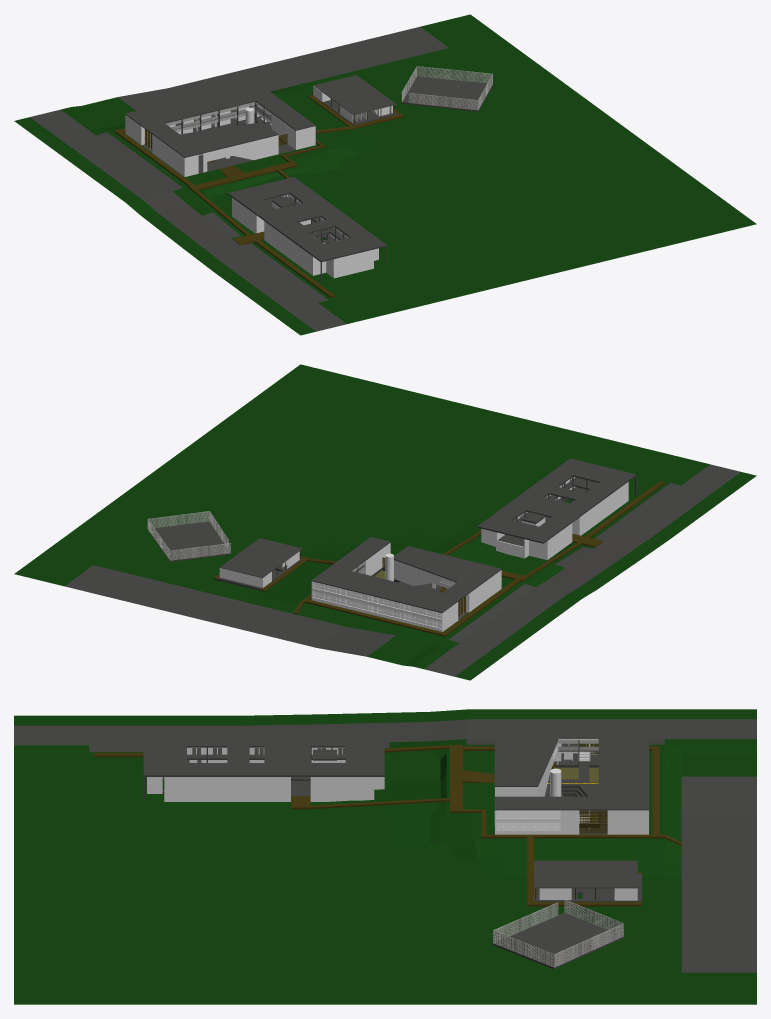
Rendered from FGA.glb.
3 views of the same model, one above another, from view 1: azimuth 30°, elevation 25°; view 2: azimuth 150°, elevation 25°; view 3: azimuth 270°, elevation 25° (orthographic). The views are drawn at different scales.
Parts seen in each view (by area): view 1: Chao, telhadoUAC, Telhado, calcada, UAC_1andar, ParedesTerreo, Grade, telhadoRU, UAC_piso_terreo, Barras_ferro, ParedesRU; view 2: Chao, telhadoUAC, Telhado, calcada, UAC_1andar, ParedesTerreo, Janelas, telhadoRU, Grade, ParedesRU, Piso_2andarUED; view 3: Chao, telhadoUAC, Telhado, calcada, ParedesTerreo, Grade, UAC_1andar, telhadoRU, UAC_piso_terreo, Janelas, pisoRU, Quadriculado (+2 smaller).
Part boxes in pixels (<box>): Chao: <box>14,14,756,335</box>; telhadoUAC: <box>125,81,315,157</box>; Telhado: <box>228,177,386,262</box>; calcada: <box>114,76,493,297</box>; UAC_1andar: <box>125,103,315,176</box>; ParedesTerreo: <box>232,194,378,278</box>; Grade: <box>401,66,492,110</box>; telhadoRU: <box>313,75,396,114</box>; UAC_piso_terreo: <box>142,113,313,176</box>; Barras_ferro: <box>165,102,271,131</box>; ParedesRU: <box>313,86,394,123</box>; Chao: <box>14,364,756,680</box>; telhadoUAC: <box>311,537,501,612</box>; Telhado: <box>477,458,636,543</box>; calcada: <box>148,481,664,636</box>; UAC_1andar: <box>311,543,501,631</box>; ParedesTerreo: <box>481,477,628,559</box>; Janelas: <box>313,578,454,628</box>; telhadoRU: <box>220,538,302,578</box>; Grade: <box>147,511,230,560</box>; ParedesRU: <box>219,550,300,587</box>; Piso_2andarUED: <box>497,477,598,546</box>; Chao: <box>14,709,756,1004</box>; telhadoUAC: <box>494,726,649,810</box>; Telhado: <box>143,733,384,776</box>; calcada: <box>94,745,681,969</box>; ParedesTerreo: <box>147,747,384,801</box>; Grade: <box>493,899,623,967</box>; UAC_1andar: <box>494,739,648,834</box>; telhadoRU: <box>534,860,637,888</box>; UAC_piso_terreo: <box>494,753,649,834</box>; Janelas: <box>496,745,560,830</box>; pisoRU: <box>534,873,641,901</box>; Quadriculado: <box>579,743,607,833</box>.
Size of what is drawn, in the model's own units: 247 by 18.25 by 269.
Materials: 12 (4 with a texture image).
